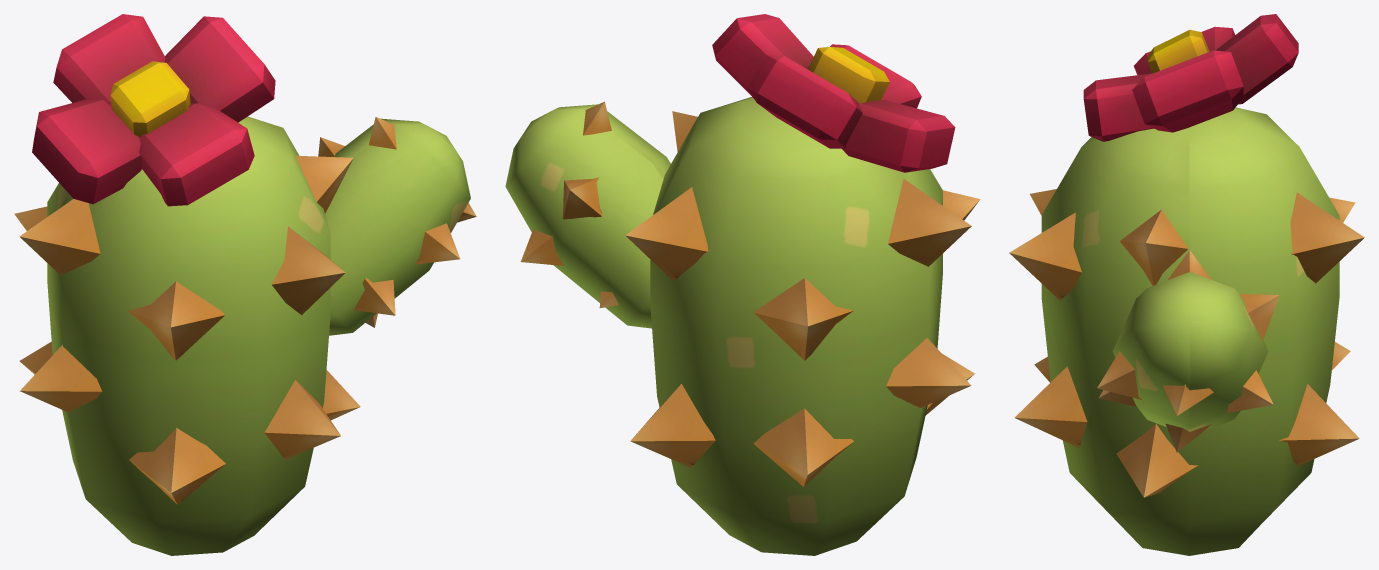
The model's file is cactus_1.fbx.
3 views of the same model, side by side, from view 1: azimuth 30°, elevation 25°; view 2: azimuth 150°, elevation 25°; view 3: azimuth 270°, elevation 25° (orthographic). The views are drawn at different scales.
Parts seen in each view (by area): view 1: cactus_1; view 2: cactus_1; view 3: cactus_1.
Boxes of the visible parts, x1=… form: cactus_1: x1=14, y1=14, x2=476, y2=555; cactus_1: x1=505, y1=14, x2=980, y2=555; cactus_1: x1=1009, y1=14, x2=1364, y2=555.
Bounding box in the file's own units: 111 × 116 × 75.22.
